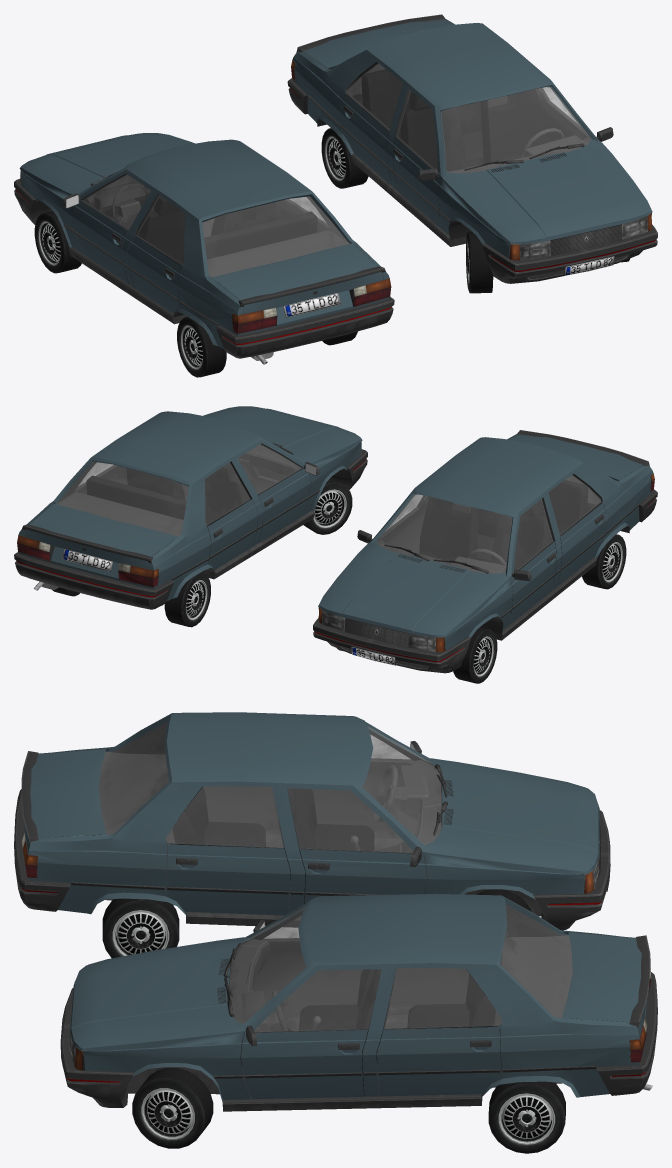
File: renault-broadway.glb
3 renders of one model, top to bottom at view 1: azimuth 30°, elevation 25°; view 2: azimuth 150°, elevation 25°; view 3: azimuth 270°, elevation 25°, orthographic. The views are drawn at different scales.
Parts seen in each view (by area): view 1: Broadway.001_0, Broadway_5, Tire3_Tire_0.004_7, Tire3_Tire_0.003_6, Tire3_Tire_0.001_3, Tire3_Tire_0.006_4; view 2: Broadway_5, Broadway.001_0, Tire3_Tire_0.006_4, Tire3_Tire_0.001_3, Tire3_Tire_0.003_6, Tire3_Tire_0.004_7; view 3: Broadway.001_0, Broadway_5, Tire3_Tire_0.002_1, Tire3_Tire_0.005_2, Tire3_Tire_0.007_8.
Boxes of the visible parts, bbox=[...] form: Broadway.001_0: bbox=[287, 14, 657, 283]; Broadway_5: bbox=[14, 133, 394, 364]; Tire3_Tire_0.004_7: bbox=[177, 316, 226, 377]; Tire3_Tire_0.003_6: bbox=[34, 211, 81, 273]; Tire3_Tire_0.001_3: bbox=[321, 128, 368, 188]; Tire3_Tire_0.006_4: bbox=[466, 232, 493, 293]; Broadway_5: bbox=[313, 430, 657, 673]; Broadway.001_0: bbox=[14, 406, 367, 609]; Tire3_Tire_0.006_4: bbox=[303, 477, 352, 534]; Tire3_Tire_0.001_3: bbox=[164, 572, 210, 627]; Tire3_Tire_0.003_6: bbox=[453, 627, 497, 683]; Tire3_Tire_0.004_7: bbox=[582, 534, 626, 589]; Broadway.001_0: bbox=[60, 893, 657, 1111]; Broadway_5: bbox=[14, 712, 610, 930]; Tire3_Tire_0.002_1: bbox=[132, 1067, 213, 1148]; Tire3_Tire_0.005_2: bbox=[488, 1081, 565, 1153]; Tire3_Tire_0.007_8: bbox=[102, 898, 179, 958].
Bounding box in the file's own units: 9.23 × 2.68 × 8.5.
Materials: 13 (9 with a texture image).
